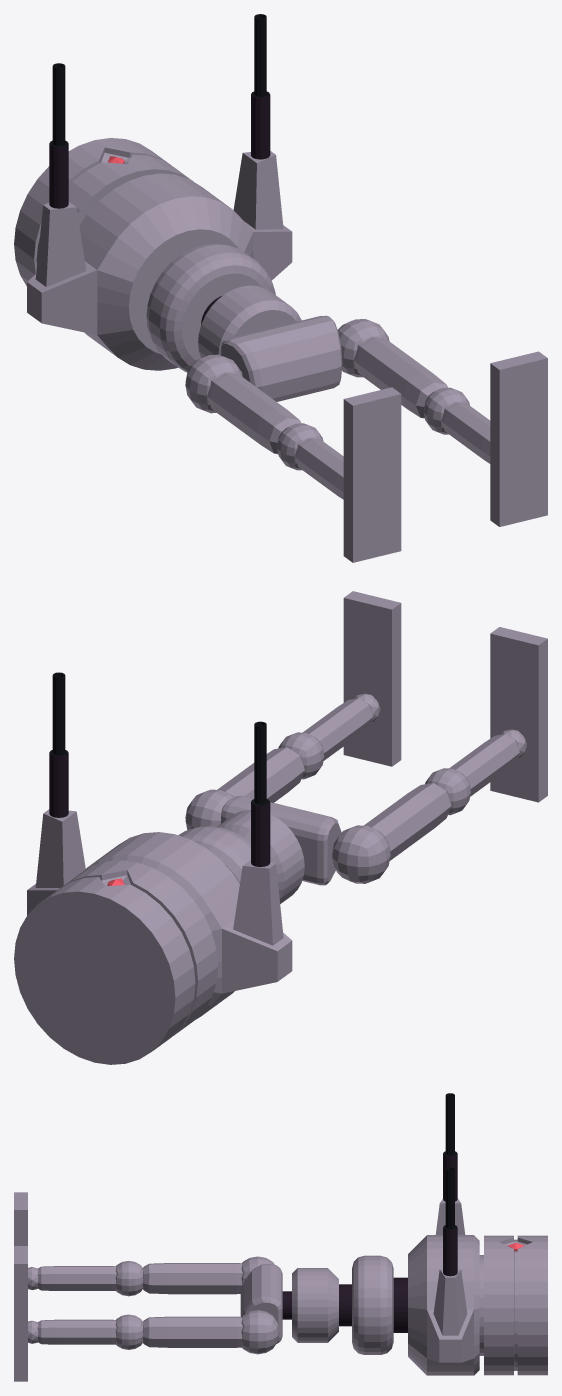
File: cylinder-shooter-robot-no-rig.fbx
3 renders of one model, top to bottom at view 1: azimuth 30°, elevation 25°; view 2: azimuth 150°, elevation 25°; view 3: azimuth 270°, elevation 25°, orthographic. The views are drawn at different scales.
Parts seen in each view (by area): view 1: spine.004, foot.R.001, foot.L.001, spine.005, pelvis.001, head.001, thigh.R.001, thigh.L.001, spine.006, shin.L.001, shin.R.001; view 2: head.001, spine.004, foot.L.001, foot.R.001, thigh.R.001, thigh.L.001, pelvis.001, shin.L.001, shin.R.001, spine.006, spine.005; view 3: spine.004, head.001, spine.005, thigh.L.001, spine.006, thigh.R.001, shin.L.001, shin.R.001, pelvis.001, foot.L.001, foot.R.001.
Part boxes in pixels (box(x1,y1,x2,y2)): spine.004: box(27, 14, 292, 370); foot.R.001: box(343, 387, 401, 562); foot.L.001: box(490, 351, 547, 526); spine.005: box(146, 243, 275, 372); pelvis.001: box(221, 315, 342, 401); head.001: box(14, 138, 193, 286); thigh.R.001: box(185, 354, 301, 454); thigh.L.001: box(338, 319, 447, 418); spine.006: box(198, 285, 301, 358); shin.L.001: box(423, 387, 490, 463); shin.R.001: box(277, 423, 343, 499); head.001: box(14, 860, 217, 1064); spine.004: box(27, 672, 292, 1019); foot.L.001: box(343, 591, 401, 766); foot.R.001: box(490, 627, 547, 802); thigh.R.001: box(332, 783, 451, 883); thigh.L.001: box(185, 747, 304, 829); pelvis.001: box(221, 795, 341, 885); shin.L.001: box(278, 698, 373, 779); shin.R.001: box(425, 734, 519, 815); spine.006: box(217, 810, 304, 903); spine.005: box(178, 826, 250, 883); spine.004: box(408, 1093, 483, 1375); head.001: box(484, 1235, 547, 1375); spine.005: box(352, 1255, 407, 1354); thigh.L.001: box(142, 1310, 279, 1354); spine.006: box(292, 1268, 351, 1342); thigh.R.001: box(142, 1256, 274, 1294); shin.L.001: box(37, 1314, 143, 1349); shin.R.001: box(37, 1261, 143, 1296); pelvis.001: box(240, 1263, 291, 1343); foot.L.001: box(14, 1246, 38, 1381); foot.R.001: box(14, 1192, 38, 1289).
Size of the model in its own units: 86.36 by 104 by 212.
1 material, 1 textured.
